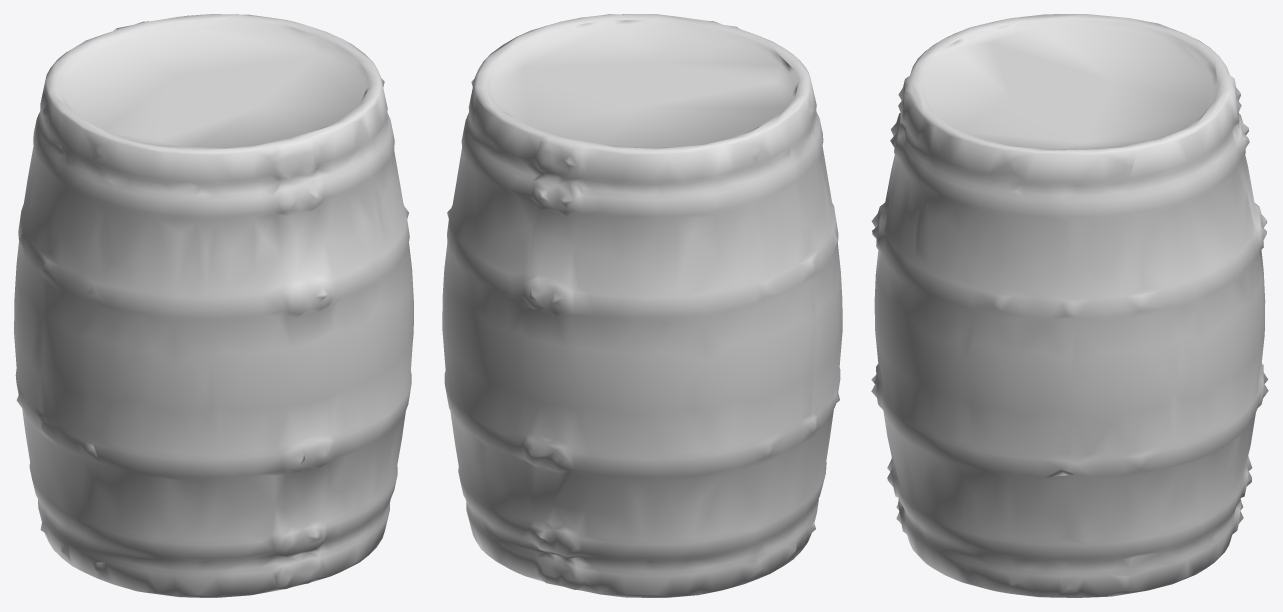
Rendered from barrel-prototype-lowpoly.glb.
The picture shows the model from 3 angles, left to right: view 1: azimuth 30°, elevation 25°; view 2: azimuth 150°, elevation 25°; view 3: azimuth 270°, elevation 25°; orthographic projection.
Parts seen in each view (by area): view 1: world; view 2: world; view 3: world.
Part boxes in pixels (box(x1,y1,x2,y2)): world: box(14, 14, 413, 597); world: box(442, 14, 842, 597); world: box(871, 14, 1268, 597).
Size of the model in its own units: 0.8025 by 0.9884 by 0.7989.
1 material, 1 textured.
